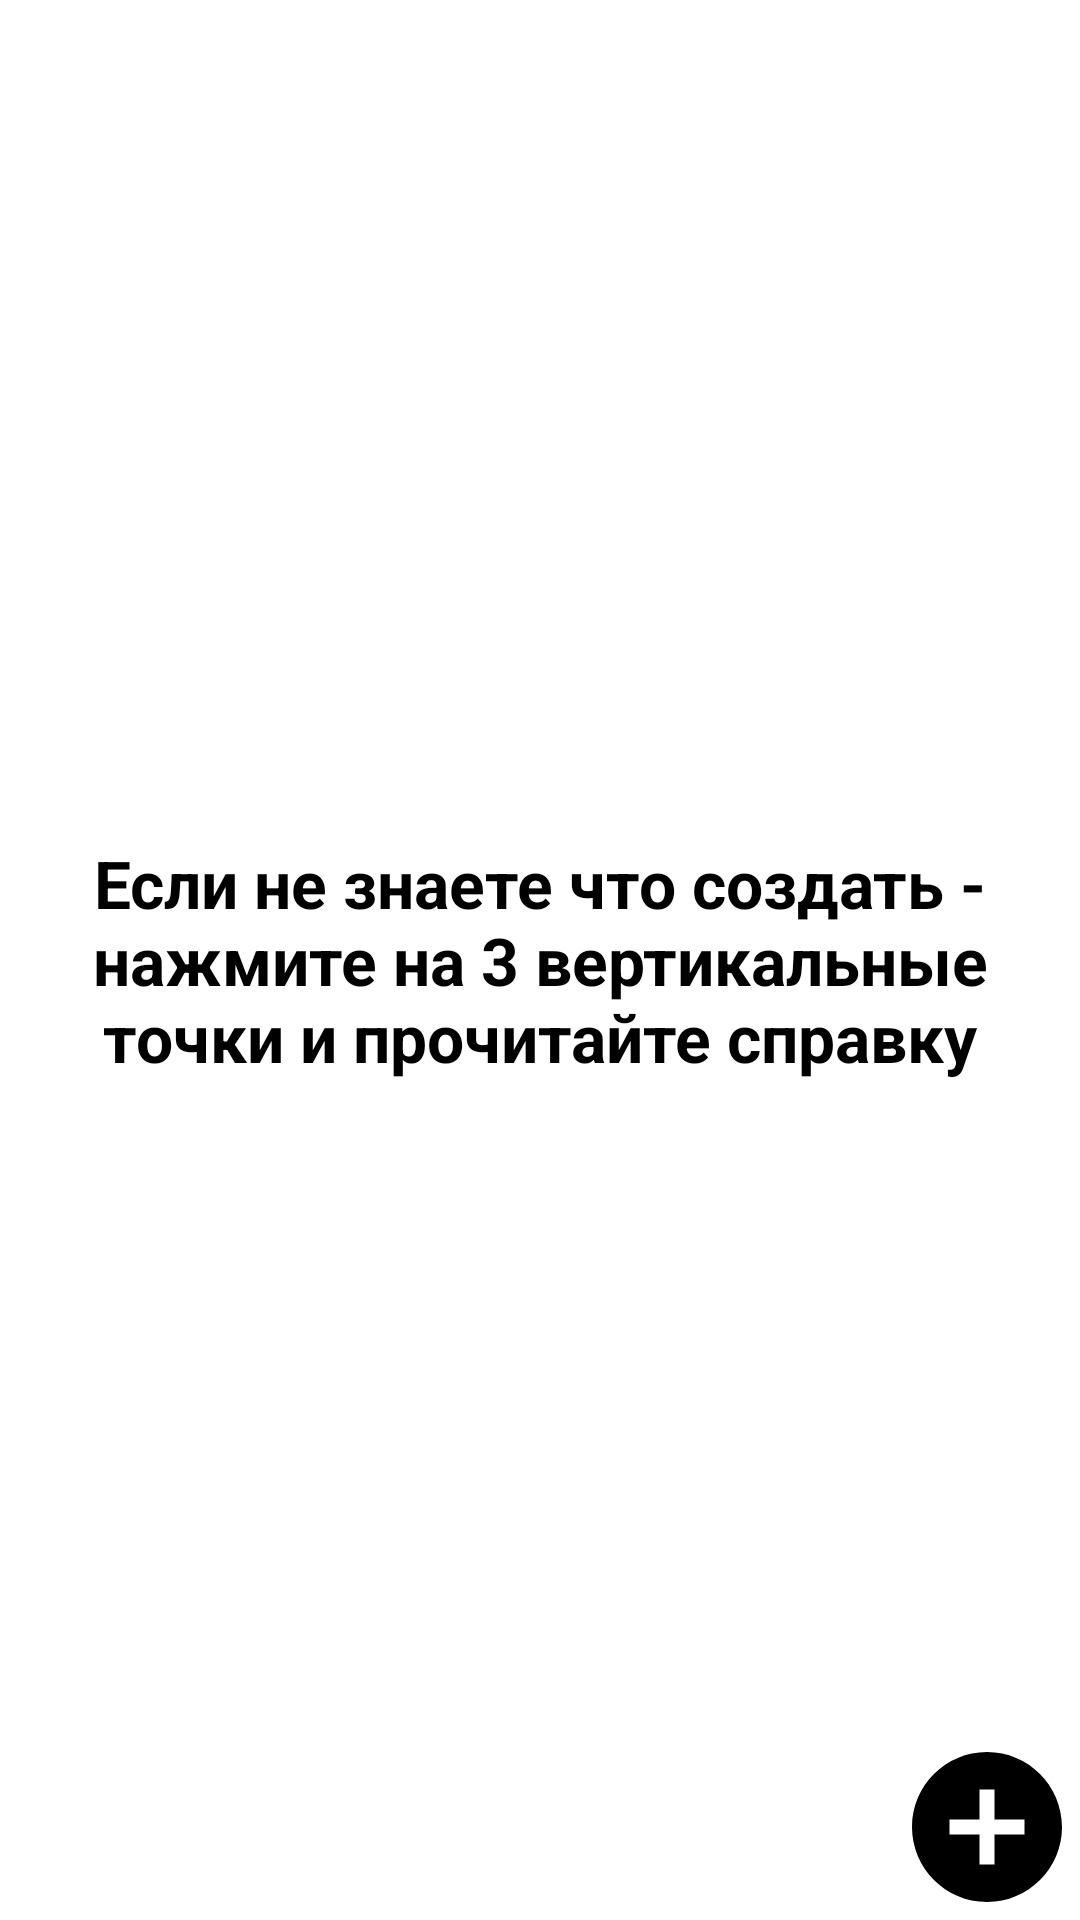

Named icons in this screenshot (1080w x 1920h) and their centers, [x,y]:
add circle: [987,1827]
